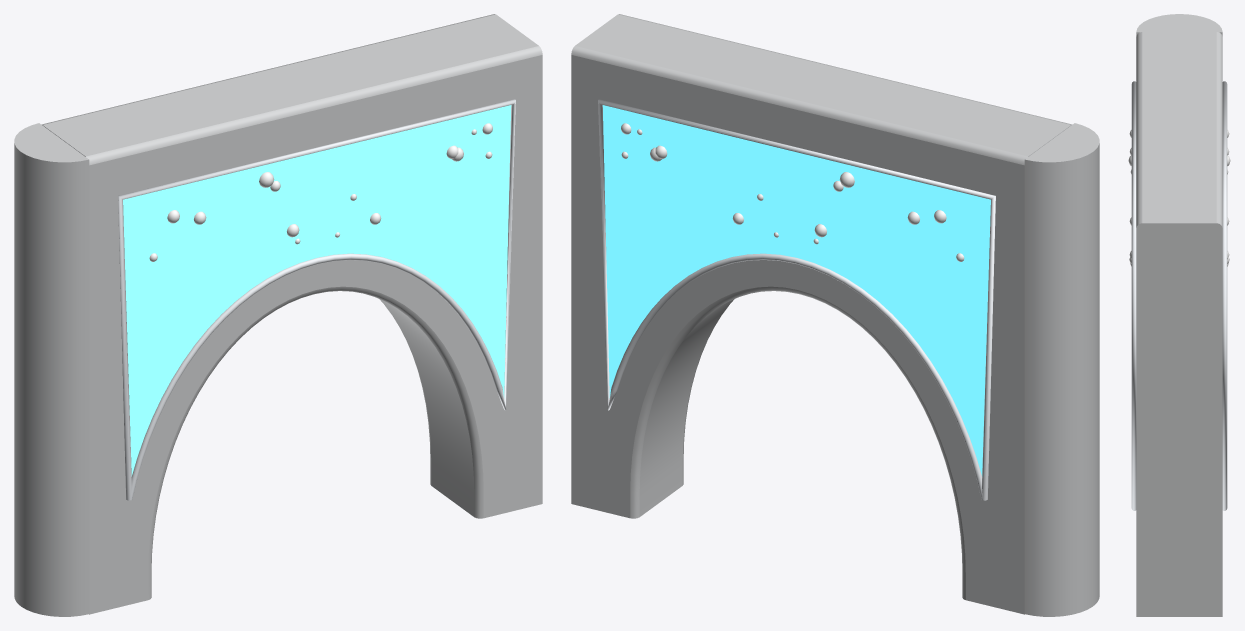
Rendered from Arch_D02_AquariumSpandrel.fbx.
3 renders of one model, left to right at view 1: azimuth 30°, elevation 25°; view 2: azimuth 150°, elevation 25°; view 3: azimuth 270°, elevation 25°, orthographic. The views are drawn at different scales.
Visible parts, largest first — view 1: Arch_D02_AquariumSpandrel; view 2: Arch_D02_AquariumSpandrel; view 3: Arch_D02_AquariumSpandrel.
Part boxes in pixels (x1,y1,x2,y2): Arch_D02_AquariumSpandrel: (14,14,542,616); Arch_D02_AquariumSpandrel: (571,14,1099,616); Arch_D02_AquariumSpandrel: (1128,14,1230,616).
Bounding box in the file's own units: 2.29 × 2.01 × 0.4722.
